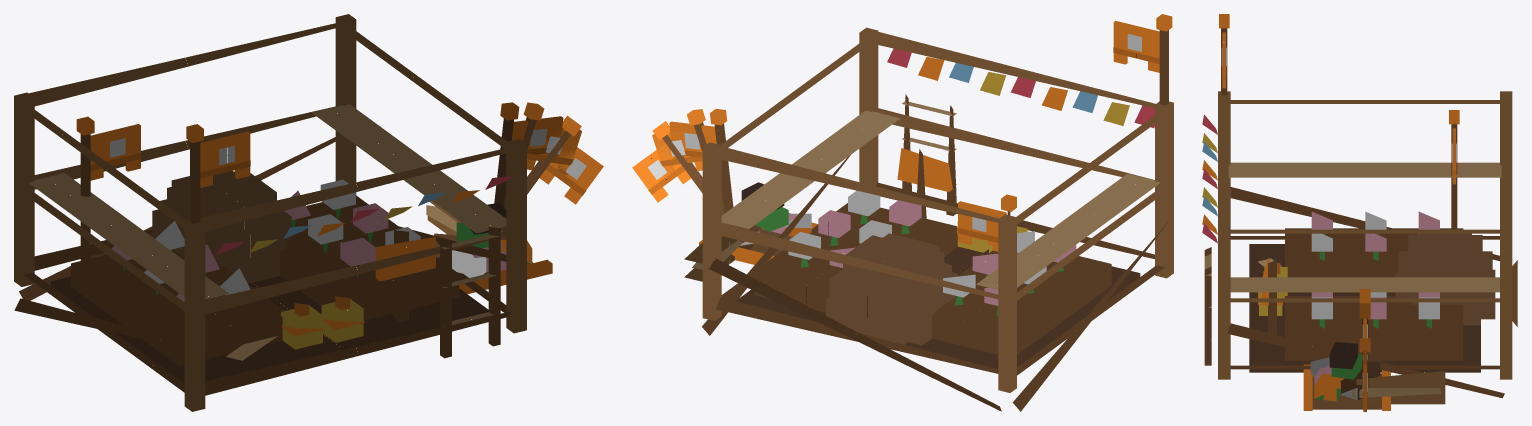
The model's file is bumblebee-producer_lod1.glb.
3 renders of one model, left to right at view 1: azimuth 30°, elevation 25°; view 2: azimuth 150°, elevation 25°; view 3: azimuth 270°, elevation 25°, orthographic. The views are drawn at different scales.
Parts seen in each view (by area): view 1: scaffold-mesh, built-mesh, dismantle-25-mesh, scaffold-banner, dismantle-75-mesh, banner, dismantle-25-banner, flag-pole, scaffold-flag-pole, dismantle-75-banner, dismantle-50-banner, dismantle-75-flag-pole (+3 smaller); view 2: scaffold-mesh, built-mesh, dismantle-75-mesh, dismantle-50-mesh, scaffold-banner, dismantle-25-mesh, dismantle-25-banner, banner, dismantle-75-banner, scaffold-flag-pole, dismantle-50-banner, dismantle-75-flag-pole (+1 smaller); view 3: scaffold-mesh, built-mesh, dismantle-25-mesh, dismantle-75-mesh, dismantle-50-mesh, flag-pole, scaffold-flag-pole.
Boxes of the visible parts, x1=… form: scaffold-mesh: x1=14, y1=14, x2=526, y2=411; built-mesh: x1=111, y1=171, x2=459, y2=383; dismantle-25-mesh: x1=226, y1=202, x2=552, y2=360; scaffold-banner: x1=200, y1=131, x2=250, y2=187; dismantle-75-mesh: x1=112, y1=190, x2=532, y2=329; banner: x1=90, y1=124, x2=141, y2=180; dismantle-25-banner: x1=539, y1=147, x2=603, y2=204; flag-pole: x1=76, y1=116, x2=94, y2=266; scaffold-flag-pole: x1=186, y1=124, x2=203, y2=223; dismantle-75-banner: x1=512, y1=116, x2=563, y2=157; dismantle-50-banner: x1=527, y1=128, x2=581, y2=174; dismantle-75-flag-pole: x1=494, y1=102, x2=519, y2=206; scaffold-mesh: x1=684, y1=27, x2=1173, y2=411; built-mesh: x1=736, y1=148, x2=1140, y2=343; dismantle-75-mesh: x1=740, y1=215, x2=1057, y2=354; dismantle-50-mesh: x1=741, y1=227, x2=998, y2=353; scaffold-banner: x1=1113, y1=20, x2=1159, y2=72; dismantle-25-mesh: x1=699, y1=182, x2=818, y2=264; dismantle-25-banner: x1=632, y1=144, x2=691, y2=202; banner: x1=958, y1=201, x2=1006, y2=251; dismantle-75-banner: x1=669, y1=121, x2=716, y2=159; scaffold-flag-pole: x1=1156, y1=14, x2=1172, y2=105; dismantle-50-banner: x1=652, y1=130, x2=702, y2=175; dismantle-75-flag-pole: x1=710, y1=109, x2=733, y2=212; scaffold-mesh: x1=1202, y1=91, x2=1517, y2=404; built-mesh: x1=1258, y1=211, x2=1482, y2=334; dismantle-25-mesh: x1=1258, y1=258, x2=1390, y2=410; dismantle-75-mesh: x1=1259, y1=212, x2=1495, y2=409; dismantle-50-mesh: x1=1259, y1=251, x2=1495, y2=400; flag-pole: x1=1449, y1=110, x2=1459, y2=229; scaffold-flag-pole: x1=1219, y1=14, x2=1229, y2=95.
Size of the model in its own units: 2.7 by 1.55 by 1.77.
